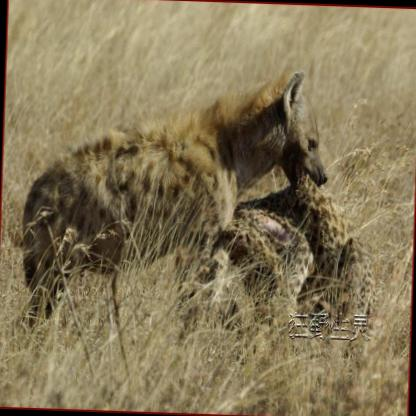African_hunting_dog: (17, 58, 332, 340)
